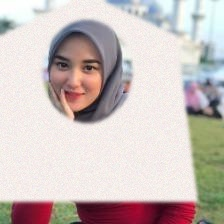Mukena: (0, 0, 197, 201)
